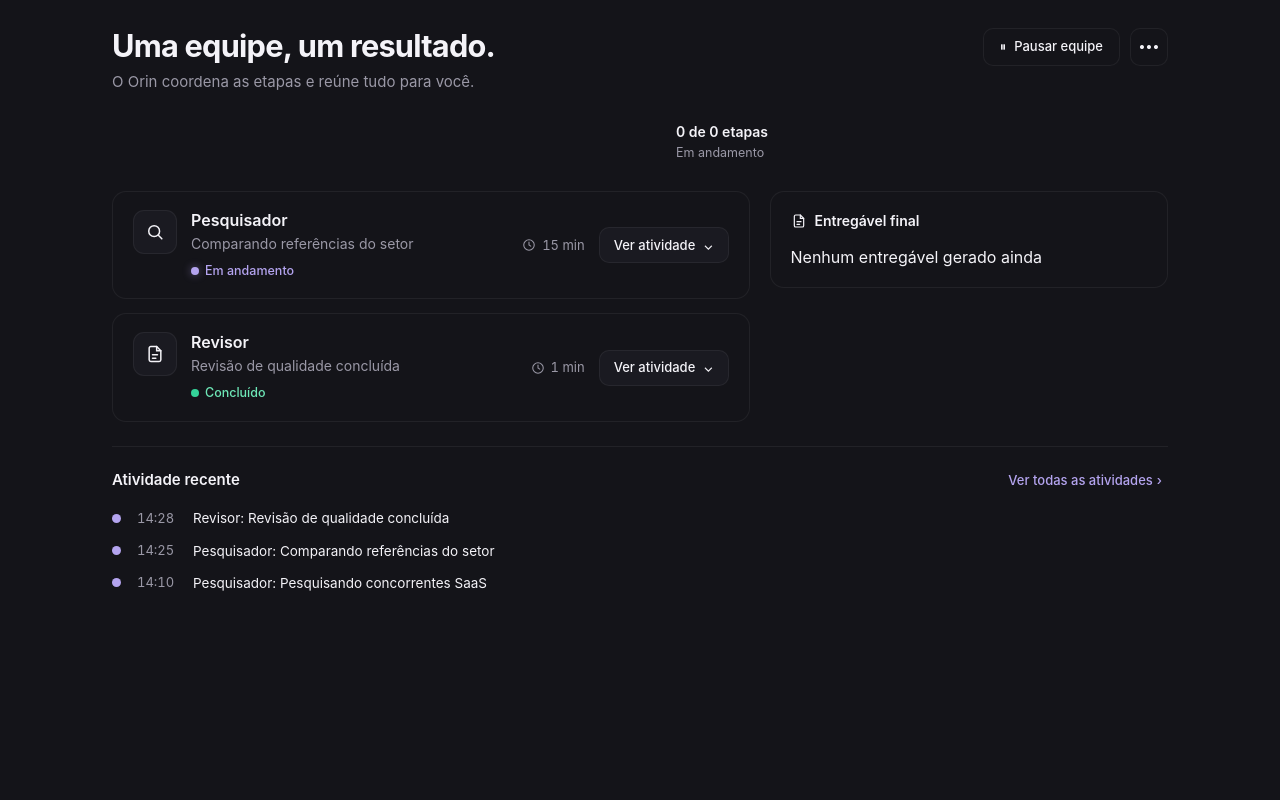
Test: TeamActivityView (ref-10.png) › agrupa eventos reais por agentId e exibe as ferramentas executadas ao expandir o card
expect the element with test id "team-agent-card-agent-search" shows "Pesquisador": met, box [191, 210, 288, 230]
expect the element with test id "team-agent-card-agent-search" shows "Comparando referências do setor": met, box [191, 235, 414, 252]
Click the button with test id "team-agent-toggle-agent-search": (664, 245) [599, 227, 728, 263]
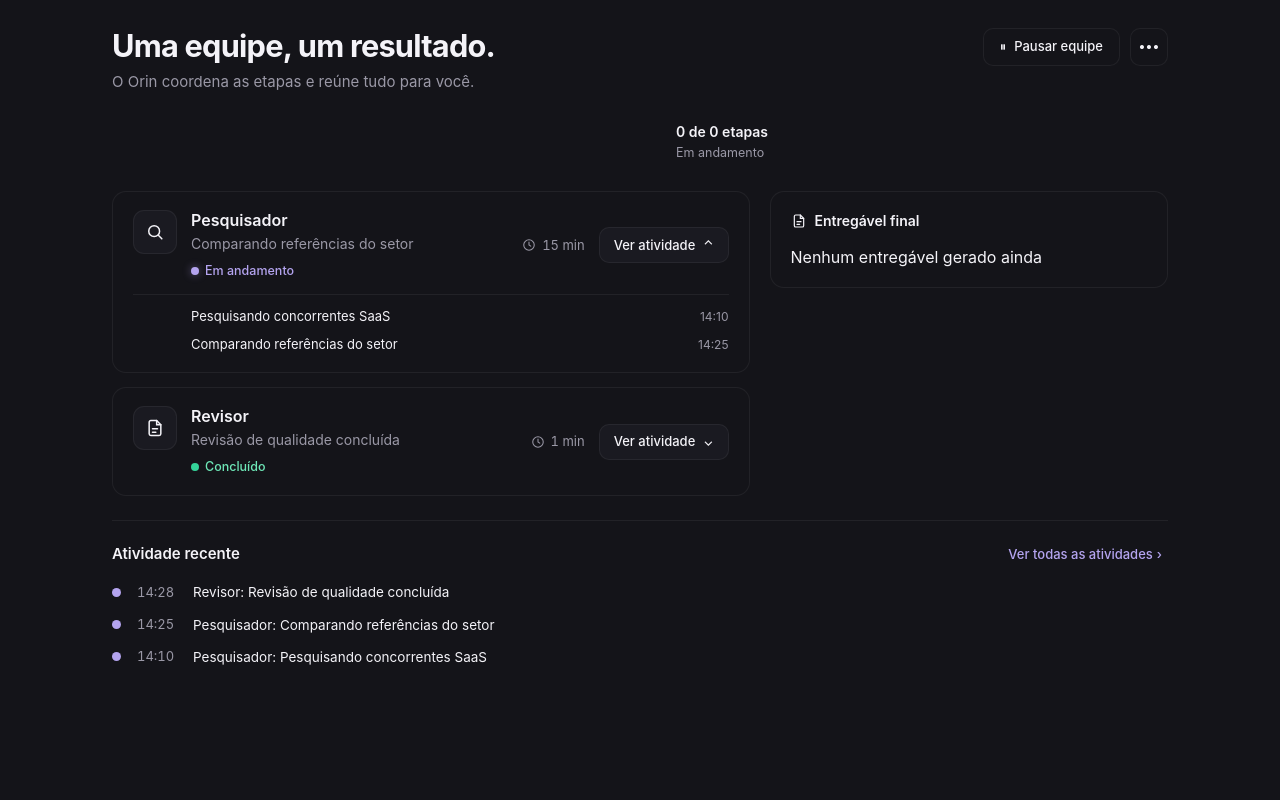
expect the list with test id "team-agent-events-agent-search" shows "Pesquisando concorrentes SaaS": met, box [191, 308, 390, 324]
expect the list with test id "team-agent-events-agent-search" shows "Comparando referências do setor": met, box [191, 336, 398, 352]
